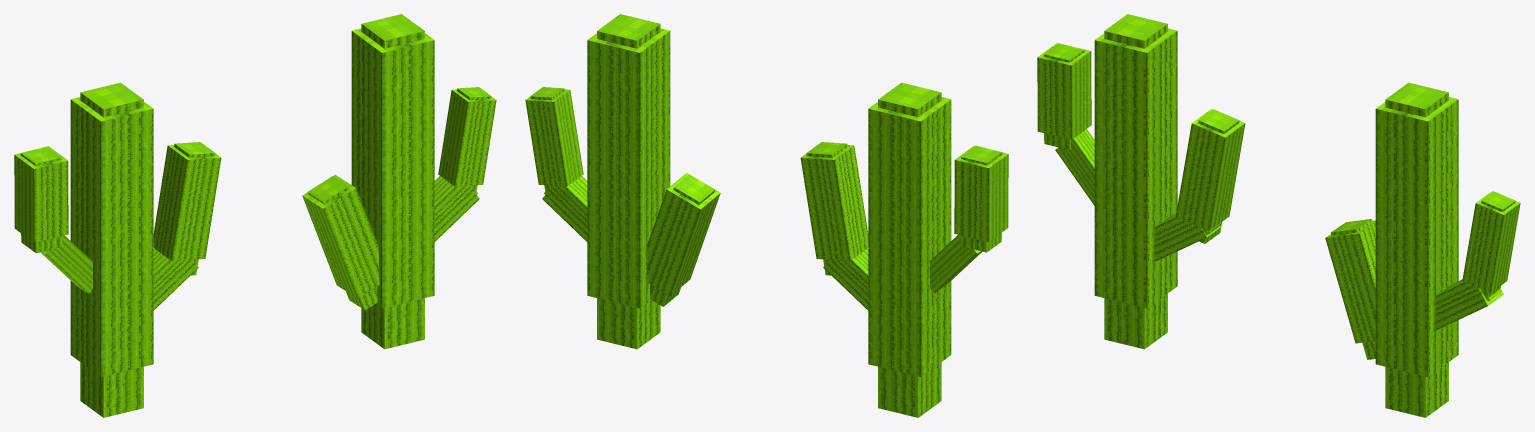
File: Cactus.fbx
3 renders of one model, left to right at view 1: azimuth 30°, elevation 25°; view 2: azimuth 150°, elevation 25°; view 3: azimuth 330°, elevation 25°, orthographic.
Visible parts, largest first — view 1: Cube.001, Cube.010, Cube.003, Cube.006, Cube.005, Cube.008, Cube.009, Cube.004, Cube.002; view 2: Cube.001, Cube.010, Cube.003, Cube.006, Cube.005, Cube.008, Cube.009, Cube.004, Cube.002; view 3: Cube.010, Cube.001, Cube.003, Cube.005, Cube.006, Cube.008, Cube.009, Cube.002, Cube.004.
Boxes of the visible parts, bbox=[...] form: Cube.001: bbox=[70, 82, 153, 417]; Cube.010: bbox=[351, 14, 434, 349]; Cube.003: bbox=[153, 142, 221, 275]; Cube.006: bbox=[302, 175, 379, 310]; Cube.005: bbox=[14, 146, 68, 253]; Cube.008: bbox=[438, 87, 496, 193]; Cube.009: bbox=[434, 176, 479, 241]; Cube.004: bbox=[41, 235, 92, 293]; Cube.002: bbox=[153, 249, 198, 310]; Cube.001: bbox=[868, 82, 951, 417]; Cube.010: bbox=[587, 14, 670, 349]; Cube.003: bbox=[800, 142, 868, 275]; Cube.006: bbox=[646, 173, 720, 306]; Cube.005: bbox=[954, 145, 1008, 252]; Cube.008: bbox=[525, 87, 583, 193]; Cube.009: bbox=[542, 176, 587, 241]; Cube.004: bbox=[930, 235, 981, 293]; Cube.002: bbox=[823, 248, 868, 310]; Cube.010: bbox=[1375, 82, 1458, 417]; Cube.001: bbox=[1094, 14, 1177, 349]; Cube.003: bbox=[1175, 109, 1245, 243]; Cube.005: bbox=[1037, 43, 1091, 149]; Cube.006: bbox=[1325, 218, 1375, 359]; Cube.008: bbox=[1462, 191, 1520, 300]; Cube.009: bbox=[1435, 279, 1503, 330]; Cube.002: bbox=[1154, 213, 1222, 261]; Cube.004: bbox=[1055, 129, 1094, 205].
Bounding box in the file's own units: 1766 × 1121 × 200.
